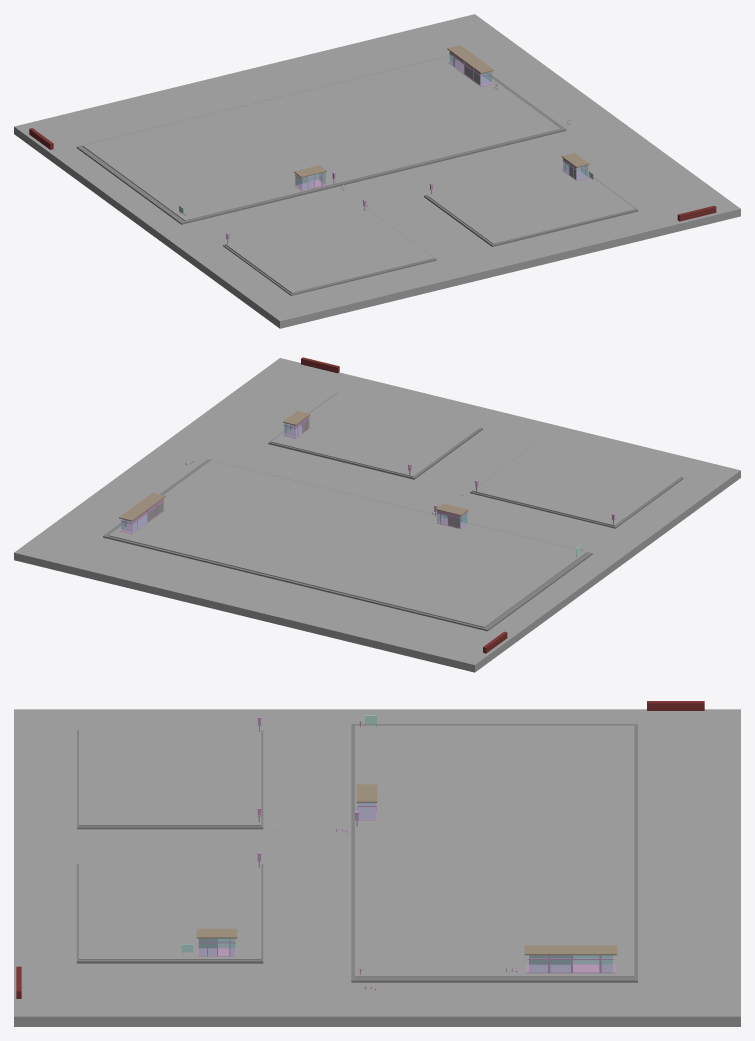
Rendered from Vivian_assets.fbx.
3 renders of one model, top to bottom at view 1: azimuth 30°, elevation 25°; view 2: azimuth 150°, elevation 25°; view 3: azimuth 270°, elevation 25°, orthographic. The views are drawn at different scales.
Parts seen in each view (by area): view 1: PR_Plane_01, PR_pavement_01, PR_pavement_03, PR_pavement_02, PR_pavement_rim_01, PR_waitingroom_03, PR_pavement_rim_02, PR_paverment_rim_03, PR_waitingroom_01, PR_waitingroom_02; view 2: PR_Plane_01, PR_pavement_01, PR_pavement_03, PR_pavement_02, PR_pavement_rim_01, PR_waitingroom_03, PR_pavement_rim_02, PR_paverment_rim_03, PR_waitingroom_01, PR_waitingroom_02; view 3: PR_Plane_01, PR_pavement_01, PR_pavement_03, PR_pavement_02, PR_pavement_rim_01, PR_waitingroom_03, PR_pavement_rim_02, PR_paverment_rim_03, PR_waitingroom_02, PR_waitingroom_01, PR_Startpoint_01.
Part boxes in pixels (x1,y1,x2,y2): PR_Plane_01: (14, 14, 740, 328); PR_pavement_01: (82, 55, 560, 220); PR_pavement_03: (225, 209, 434, 293); PR_pavement_02: (426, 161, 635, 244); PR_pavement_rim_01: (76, 55, 566, 224); PR_waitingroom_03: (447, 45, 494, 86); PR_pavement_rim_02: (424, 167, 638, 246); PR_paverment_rim_03: (223, 210, 436, 295); PR_waitingroom_01: (294, 165, 326, 190); PR_waitingroom_02: (561, 153, 589, 180); PR_Plane_01: (14, 358, 740, 672); PR_pavement_01: (108, 460, 586, 627); PR_pavement_03: (472, 442, 681, 526); PR_pavement_02: (271, 393, 480, 476); PR_pavement_rim_01: (103, 459, 592, 631); PR_waitingroom_03: (119, 492, 165, 534); PR_pavement_rim_02: (268, 392, 482, 479); PR_paverment_rim_03: (470, 442, 683, 528); PR_waitingroom_01: (435, 503, 468, 528); PR_waitingroom_02: (283, 411, 310, 438); PR_Plane_01: (14, 709, 740, 1026); PR_pavement_01: (355, 725, 634, 977); PR_pavement_03: (79, 730, 261, 826); PR_pavement_02: (79, 864, 261, 959); PR_pavement_rim_01: (351, 724, 637, 982); PR_waitingroom_03: (524, 945, 617, 973); PR_pavement_rim_02: (76, 864, 263, 963); PR_paverment_rim_03: (77, 730, 263, 829); PR_waitingroom_02: (196, 928, 237, 956); PR_waitingroom_01: (356, 784, 377, 820); PR_Startpoint_01: (647, 701, 704, 710).
Bounding box in the file's own units: 12.25 × 0.7153 × 12.25.
